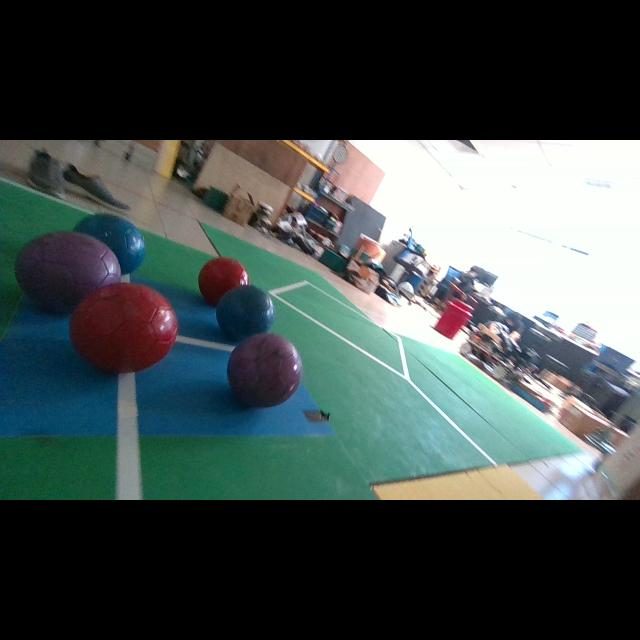B: (74, 214, 145, 273), (216, 285, 275, 341)
P: (15, 231, 121, 313), (228, 334, 302, 407)
R: (70, 282, 179, 373), (199, 259, 250, 306)
